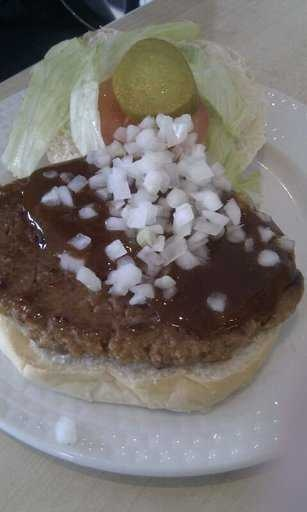hamburger: (1, 121, 299, 415)
